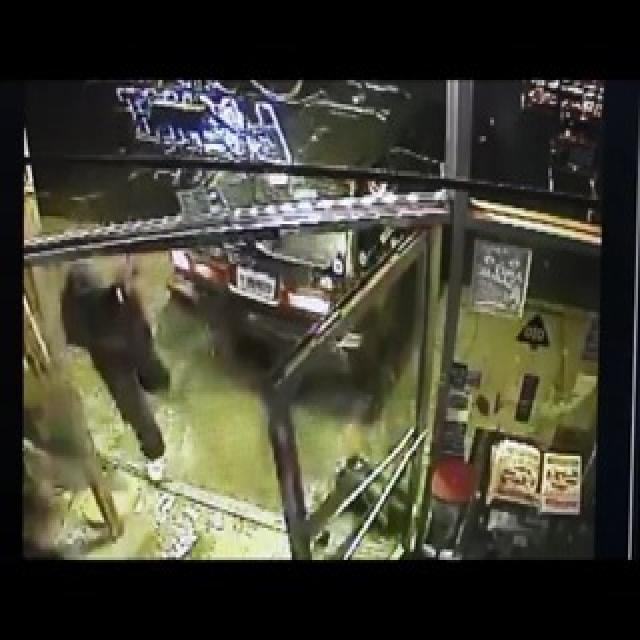thief: (45, 200, 157, 361)
